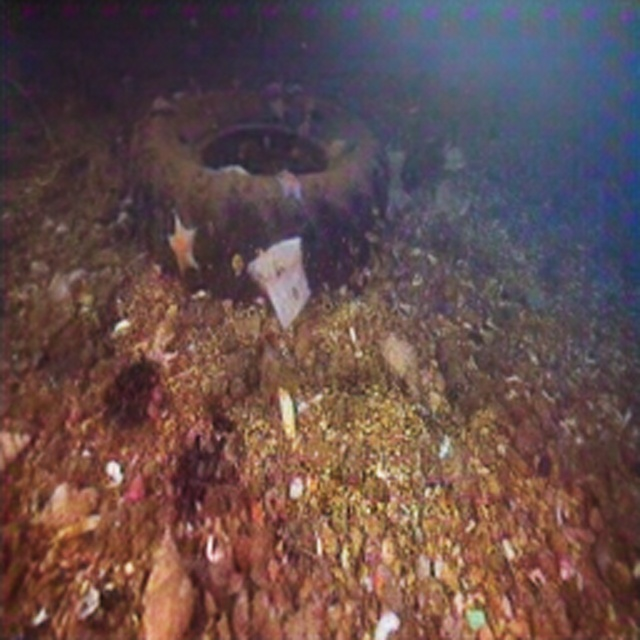mine: (131, 88, 388, 299)
